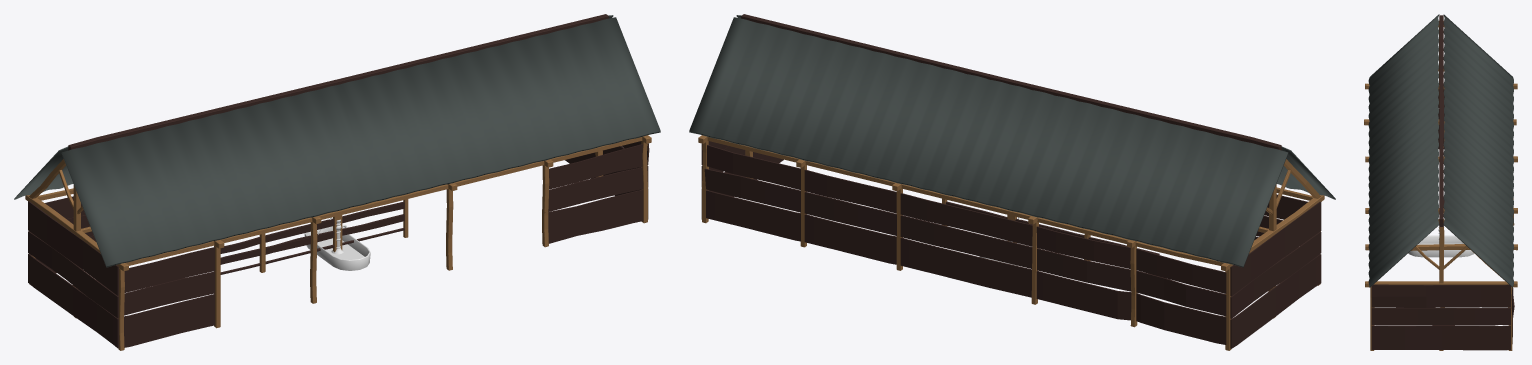
File: Set4Corral.fbx
3 renders of one model, left to right at view 1: azimuth 30°, elevation 25°; view 2: azimuth 150°, elevation 25°; view 3: azimuth 270°, elevation 25°, orthographic. The views are drawn at different scales.
Parts seen in each view (by area): view 1: Corral, CercaPuerta, Cerca, AguaFuente; view 2: Corral; view 3: Corral, AguaFuente.
Part boxes in pixels (bbox=[...]): Corral: bbox=[14, 14, 660, 350]; CercaPuerta: bbox=[259, 199, 408, 272]; Cerca: bbox=[220, 216, 339, 274]; AguaFuente: bbox=[304, 226, 370, 270]; Corral: bbox=[689, 14, 1335, 350]; Corral: bbox=[1364, 14, 1517, 350]; AguaFuente: bbox=[1408, 235, 1474, 257].
Bounding box in the file's own units: 1715 × 514 × 531.
